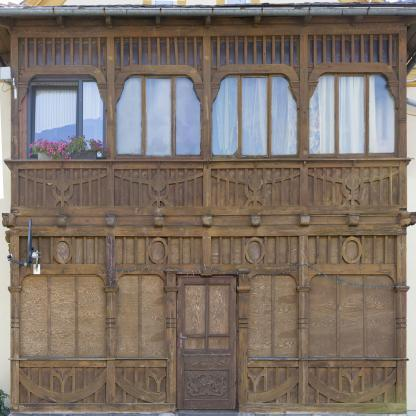Building Outline: (0, 0, 416, 415), (10, 6, 407, 415)
Door: (177, 276, 236, 409)
Floor Slab: (10, 215, 407, 223)
Ground Floor: (10, 223, 407, 415)
Pillar: (164, 268, 179, 403), (236, 268, 250, 403)
Top Floor: (10, 15, 407, 215)
Window: (308, 73, 396, 158), (309, 275, 397, 358), (213, 75, 299, 158), (20, 275, 106, 358), (116, 77, 201, 157), (27, 77, 106, 160), (115, 275, 166, 358), (248, 274, 298, 357), (115, 40, 201, 66), (213, 39, 297, 65), (20, 41, 105, 66), (310, 38, 395, 63)
